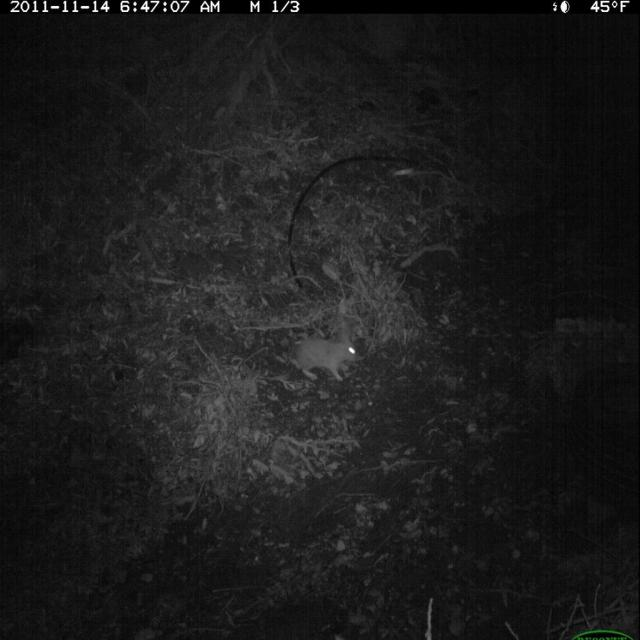rabbit: (290, 316, 361, 392)
